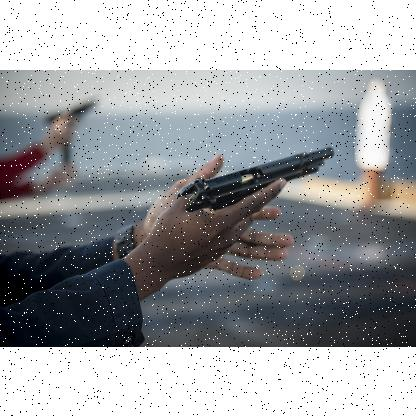gun: (177, 145, 334, 211), (44, 100, 98, 164)
